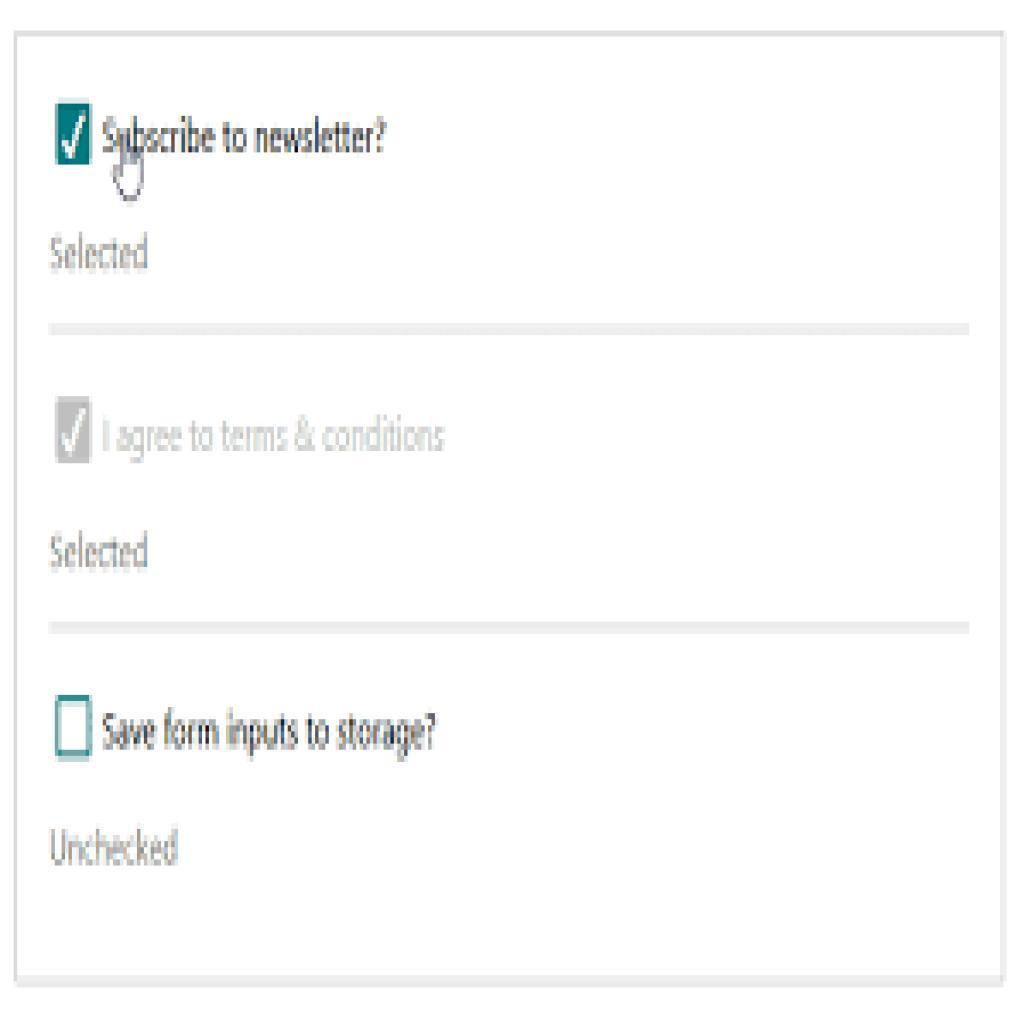checkbox: (55, 397, 93, 463), (56, 696, 93, 758), (57, 103, 92, 168)
label: (100, 707, 440, 764), (101, 414, 451, 468), (102, 108, 390, 163), (48, 821, 184, 873), (45, 531, 154, 575), (47, 230, 154, 274)
